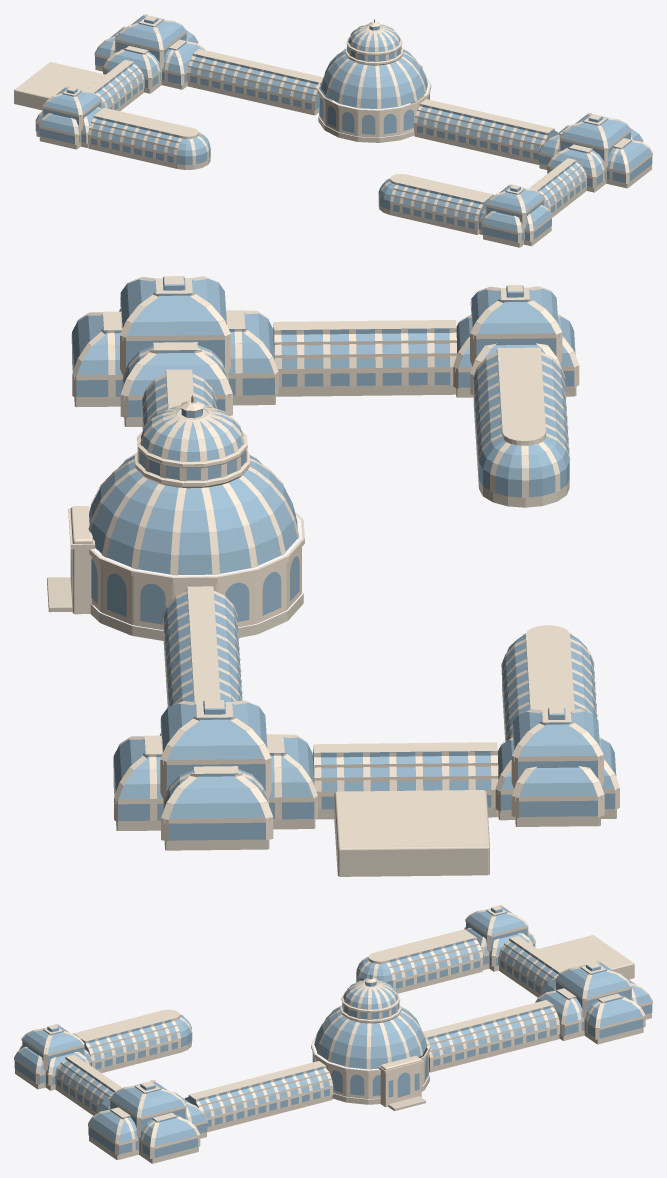
Rendered from detail.glb.
3 views of the same model, one above another, from view 1: azimuth 30°, elevation 25°; view 2: azimuth 150°, elevation 25°; view 3: azimuth 270°, elevation 25° (orthographic). The views are drawn at different scales.
Parts seen in each view (by area): view 1: enid-a-haupt-conservatory; view 2: enid-a-haupt-conservatory; view 3: enid-a-haupt-conservatory.
Part boxes in pixels (x1,y1,x2,y2): enid-a-haupt-conservatory: (14, 14, 652, 247); enid-a-haupt-conservatory: (47, 276, 619, 876); enid-a-haupt-conservatory: (14, 905, 652, 1163).
Size of the model in its own units: 128 by 28 by 154.
